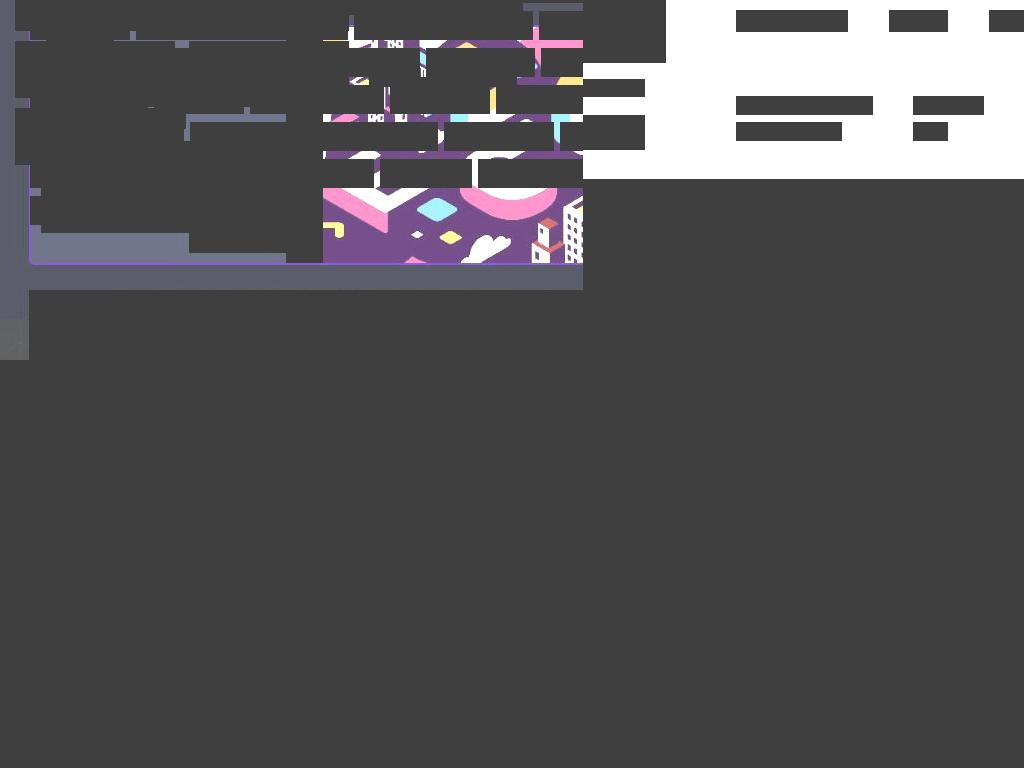button: (583, 360, 1024, 768), (286, 433, 583, 504), (286, 514, 583, 585), (286, 595, 583, 666), (286, 360, 583, 423), (0, 433, 256, 504), (0, 514, 256, 585), (0, 595, 256, 666), (0, 360, 256, 423), (15, 41, 175, 98), (189, 41, 349, 98), (363, 41, 523, 98), (15, 108, 175, 165), (30, 196, 253, 225), (136, 11, 348, 40), (354, 11, 533, 40), (15, 0, 175, 31), (189, 0, 349, 31), (363, 0, 523, 31), (251, 48, 420, 77), (30, 122, 184, 151), (250, 85, 384, 114), (312, 122, 438, 151), (30, 85, 148, 114), (128, 48, 245, 77), (190, 122, 306, 151), (30, 159, 143, 188), (444, 122, 554, 151), (149, 159, 259, 188), (426, 48, 535, 77), (265, 159, 374, 188), (478, 159, 583, 188), (30, 11, 130, 40), (390, 85, 490, 114), (189, 224, 287, 253), (30, 48, 122, 77), (380, 159, 472, 188), (29, 0, 206, 15), (154, 85, 244, 114), (496, 85, 583, 114), (206, 0, 363, 15), (363, 0, 513, 15), (129, 57, 193, 87), (539, 11, 583, 40), (541, 48, 583, 77), (560, 122, 583, 151)
field: (583, 115, 645, 150)
heading: (0, 360, 583, 768), (583, 365, 1024, 768), (0, 706, 583, 732)
iframe: (29, 290, 583, 360)
image: (583, 360, 1024, 768), (583, 179, 917, 360), (0, 413, 583, 513), (0, 360, 583, 429), (286, 27, 323, 263), (46, 38, 114, 107)
label: (583, 79, 645, 97)
link: (736, 96, 873, 115), (736, 10, 848, 32), (736, 122, 842, 141), (129, 88, 201, 107), (913, 96, 984, 115), (889, 10, 948, 32), (129, 110, 186, 129), (213, 88, 268, 107), (989, 10, 1024, 32), (913, 122, 948, 141)
text: (41, 141, 287, 233), (291, 334, 583, 360), (47, 334, 292, 356), (345, 460, 540, 486), (342, 541, 512, 567), (307, 753, 583, 768), (41, 199, 229, 221), (0, 379, 157, 405), (147, 14, 316, 36), (349, 379, 485, 405), (349, 622, 485, 648), (0, 753, 235, 768), (365, 14, 501, 36), (262, 51, 388, 73), (41, 125, 152, 147), (261, 88, 352, 110), (0, 460, 73, 486), (323, 125, 406, 147), (228, 53, 310, 75), (507, 88, 583, 110), (41, 88, 116, 110), (139, 51, 213, 73), (201, 125, 274, 147), (41, 162, 111, 184), (61, 120, 129, 142), (21, 10, 169, 20), (195, 10, 343, 20), (369, 10, 517, 20), (21, 77, 169, 87), (195, 77, 343, 87), (369, 77, 517, 87), (21, 144, 169, 154), (455, 125, 522, 147), (160, 162, 227, 184), (489, 162, 556, 184), (437, 51, 503, 73), (276, 162, 342, 184), (66, 53, 124, 75), (41, 14, 98, 36), (401, 88, 458, 110), (416, 53, 470, 75), (41, 51, 90, 73), (391, 162, 440, 184), (0, 541, 41, 567), (165, 88, 212, 110), (550, 14, 583, 36), (552, 51, 583, 73), (232, 0, 306, 8), (412, 0, 474, 8), (98, 17, 122, 35), (316, 17, 340, 35), (501, 17, 525, 35), (90, 54, 114, 72), (213, 54, 237, 72), (388, 54, 412, 72), (503, 54, 527, 72), (116, 91, 140, 109), (212, 91, 236, 109), (352, 91, 376, 109), (458, 91, 482, 109), (152, 128, 176, 146), (274, 128, 298, 146), (406, 128, 430, 146), (522, 128, 546, 146), (111, 165, 135, 183), (227, 165, 251, 183), (342, 165, 366, 183), (440, 165, 464, 183), (556, 165, 580, 183), (71, 0, 119, 8), (229, 202, 245, 220), (571, 125, 583, 147), (201, 88, 213, 107), (268, 88, 276, 107)
